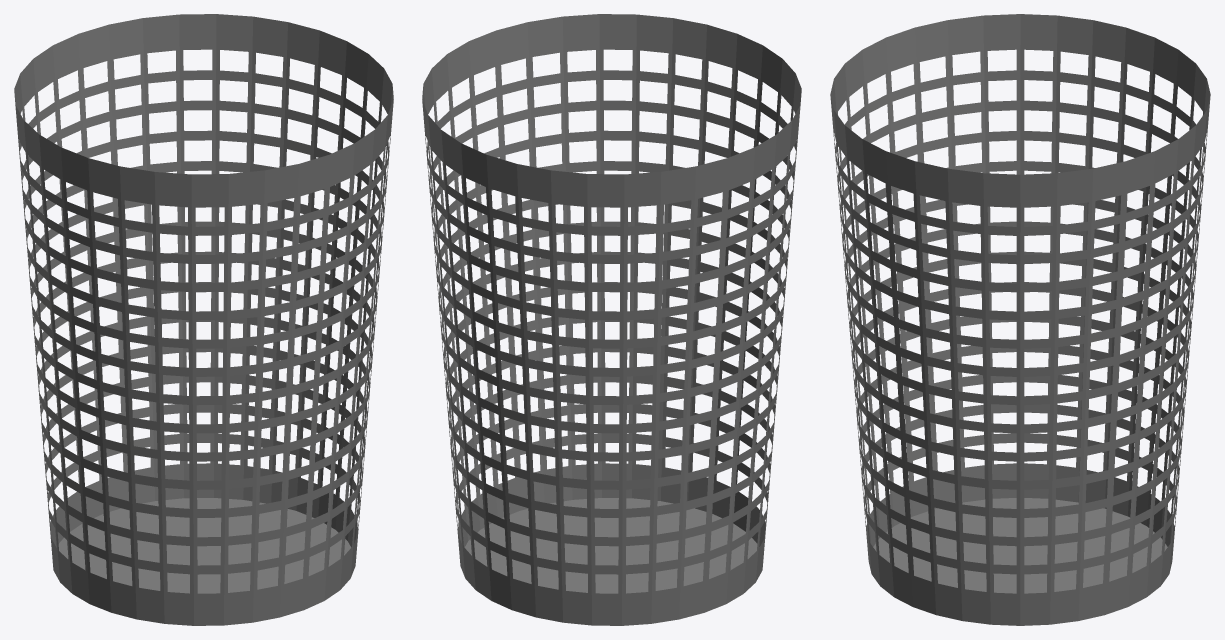
File: Lixo.fbx
3 views of the same model, side by side, from view 1: azimuth 30°, elevation 25°; view 2: azimuth 150°, elevation 25°; view 3: azimuth 270°, elevation 25° (orthographic).
Visible parts, largest first — view 1: CestoDeLixo; view 2: CestoDeLixo; view 3: CestoDeLixo.
Boxes of the visible parts, bbox=[...] form: CestoDeLixo: bbox=[14, 14, 393, 625]; CestoDeLixo: bbox=[422, 14, 801, 625]; CestoDeLixo: bbox=[830, 14, 1210, 625].
Size of the model in its own units: 61.92 by 83.98 by 61.92.
1 material, 1 textured.
